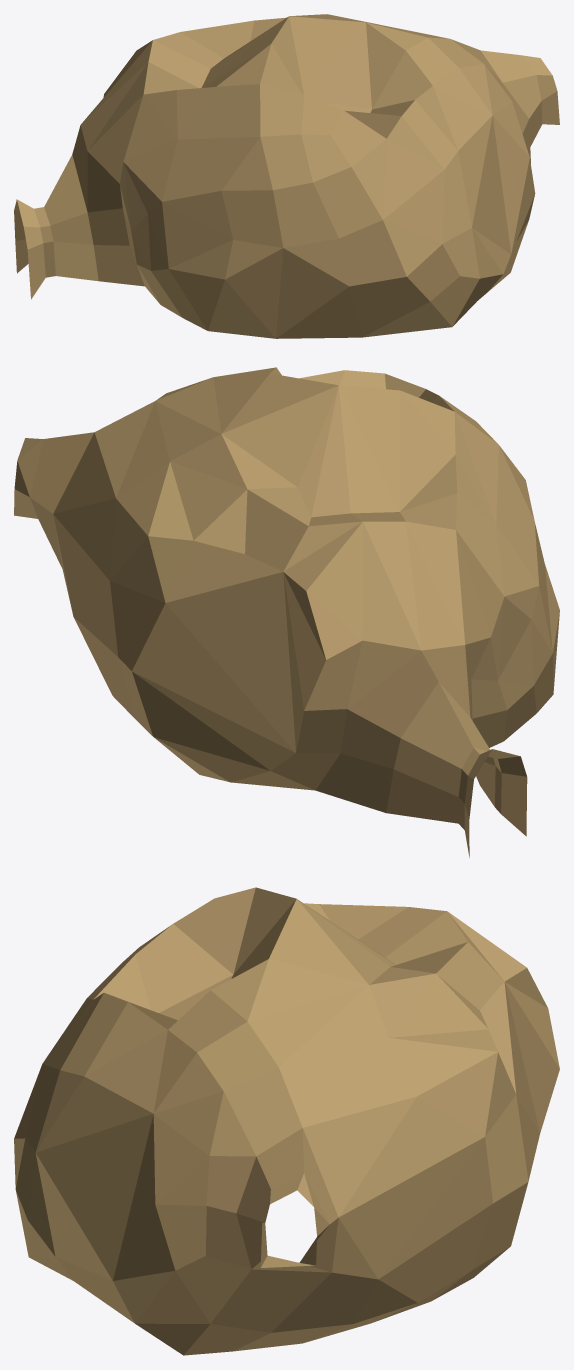
File: Dome-2exits-01.fbx
3 views of the same model, one above another, from view 1: azimuth 30°, elevation 25°; view 2: azimuth 150°, elevation 25°; view 3: azimuth 270°, elevation 25° (orthographic). The views are drawn at different scales.
Visible parts, largest first — view 1: Dome-2exits-01; view 2: Dome-2exits-01; view 3: Dome-2exits-01.
Part boxes in pixels (x1,y1,x2,y2): Dome-2exits-01: (14, 14, 559, 338); Dome-2exits-01: (14, 367, 559, 857); Dome-2exits-01: (14, 887, 559, 1355).
Bounding box in the file's own units: 1746 × 2205 × 1268.
